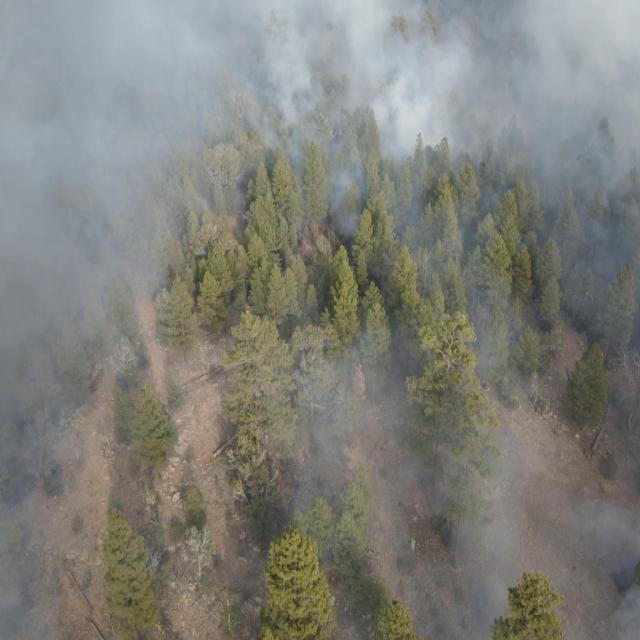smoke: (136, 350, 639, 640), (0, 0, 640, 176), (2, 175, 136, 640), (326, 176, 640, 354), (138, 175, 204, 353)
